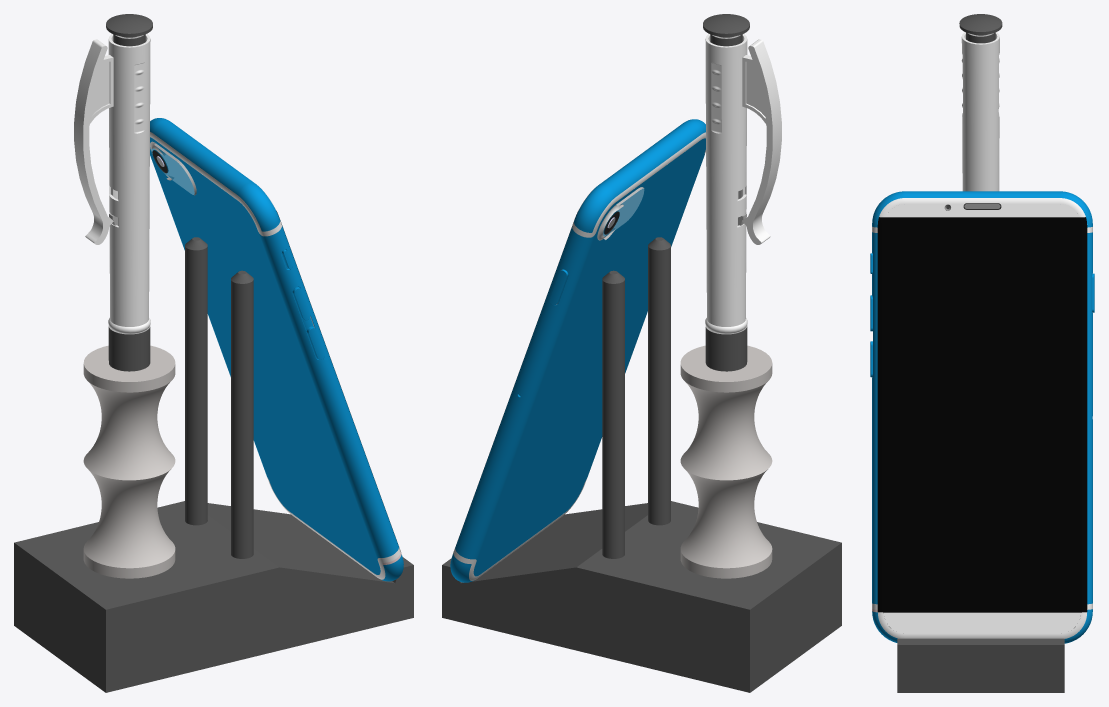
The model's file is config18.glb.
The picture shows the model from 3 angles, left to right: view 1: azimuth 30°, elevation 25°; view 2: azimuth 150°, elevation 25°; view 3: azimuth 270°, elevation 25°; orthographic projection. The views are drawn at different scales.
Visible parts, largest first — view 1: Socle-2, User Library-Iphone 8 v2-3, Porte stylo-1, SADC-SADC Pen_SADC 001-1, Module téléphone-2, Module téléphone-1, SADC-SADC Pen_SADC 002-2, SADC-SADC Pen_SADC 005-1; view 2: Socle-2, User Library-Iphone 8 v2-3, Porte stylo-1, SADC-SADC Pen_SADC 001-1, Module téléphone-1, Module téléphone-2, SADC-SADC Pen_SADC 002-2, SADC-SADC Pen_SADC 005-1; view 3: User Library-Iphone 8 v2-3, Socle-2, SADC-SADC Pen_SADC 001-1, SADC-SADC Pen_SADC 005-1.
Part boxes in pixels (x1=…): Socle-2: x1=14, y1=501, x2=413, y2=692; User Library-Iphone 8 v2-3: x1=150, y1=118, x2=403, y2=581; Porte stylo-1: x1=83, y1=345, x2=175, y2=578; SADC-SADC Pen_SADC 001-1: x1=74, y1=34, x2=150, y2=333; Module téléphone-2: x1=185, y1=237, x2=207, y2=525; Module téléphone-1: x1=231, y1=270, x2=253, y2=558; SADC-SADC Pen_SADC 002-2: x1=108, y1=325, x2=150, y2=371; SADC-SADC Pen_SADC 005-1: x1=106, y1=14, x2=152, y2=225; Socle-2: x1=442, y1=501, x2=841, y2=692; User Library-Iphone 8 v2-3: x1=450, y1=119, x2=705, y2=582; Porte stylo-1: x1=680, y1=345, x2=772, y2=578; SADC-SADC Pen_SADC 001-1: x1=705, y1=34, x2=781, y2=333; Module téléphone-1: x1=648, y1=237, x2=670, y2=525; Module téléphone-2: x1=602, y1=270, x2=624, y2=558; SADC-SADC Pen_SADC 002-2: x1=705, y1=325, x2=747, y2=371; SADC-SADC Pen_SADC 005-1: x1=703, y1=14, x2=749, y2=225; User Library-Iphone 8 v2-3: x1=870, y1=191, x2=1094, y2=643; Socle-2: x1=897, y1=638, x2=1064, y2=692; SADC-SADC Pen_SADC 001-1: x1=961, y1=32, x2=999, y2=191; SADC-SADC Pen_SADC 005-1: x1=959, y1=14, x2=1002, y2=43.
Bounding box in the file's own units: 0.0984 × 0.1899 × 0.068.
Materials: 41 (1 with a texture image).
